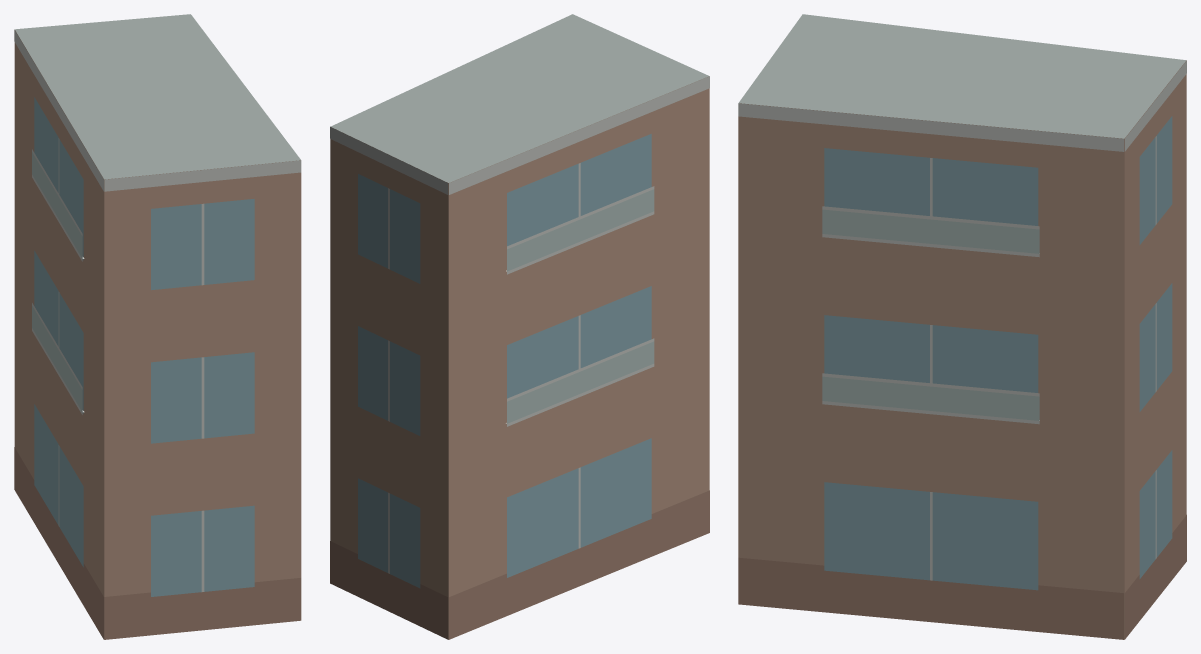
File: survey-upis-32810188.glb
3 views of the same model, side by side, from view 1: azimuth 30°, elevation 25°; view 2: azimuth 150°, elevation 25°; view 3: azimuth 270°, elevation 25° (orthographic). The views are drawn at different scales.
Visible parts, largest first — view 1: survey-upis-32810188.tmp; view 2: survey-upis-32810188.tmp; view 3: survey-upis-32810188.tmp.
Part boxes in pixels (x1,y1,x2,y2): survey-upis-32810188.tmp: [14, 14, 301, 639]; survey-upis-32810188.tmp: [330, 14, 709, 639]; survey-upis-32810188.tmp: [738, 14, 1186, 639].
Bounding box in the file's own units: 4.89 × 9.15 × 7.43.
